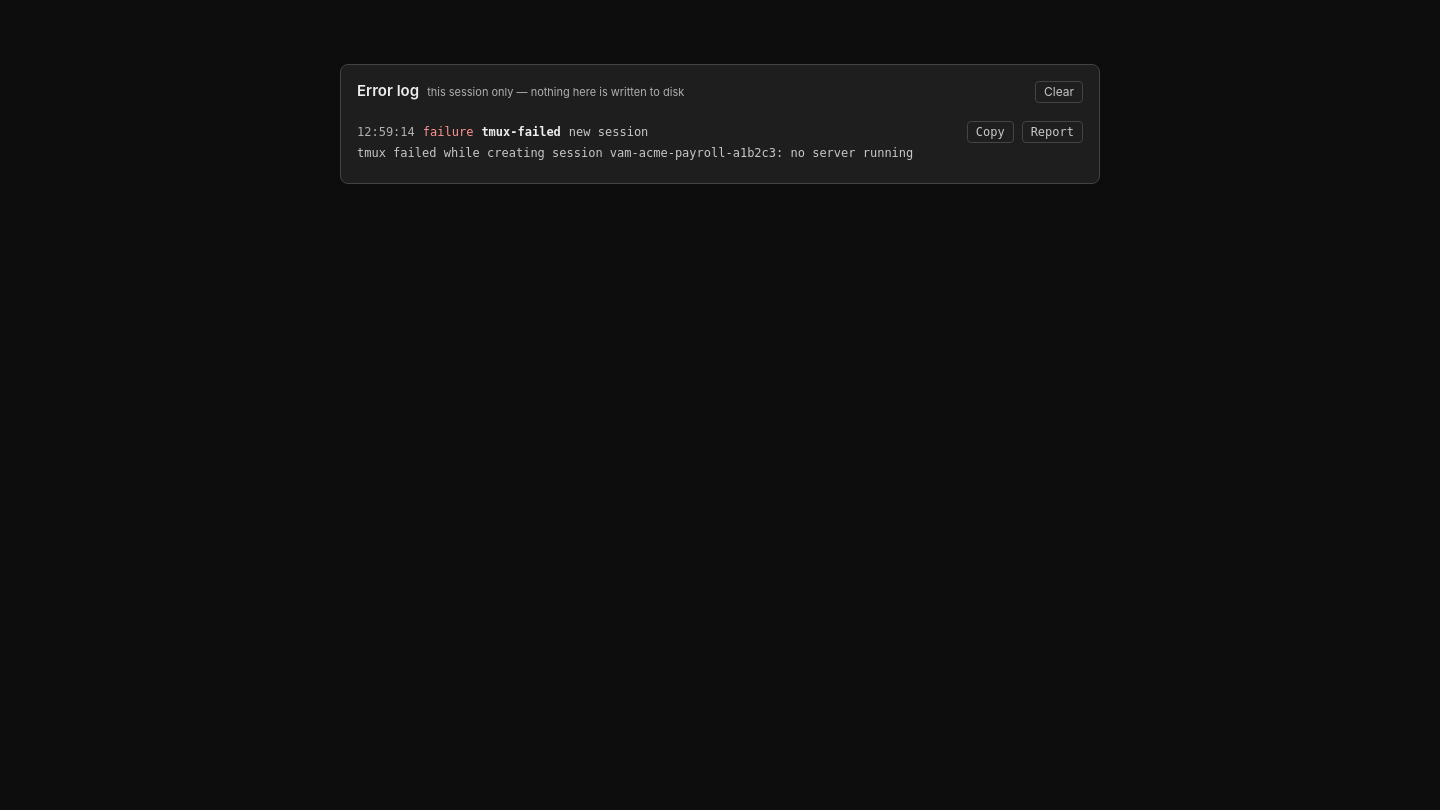
Test: reaching github from a recorded failure › leaves a route to the issue page when the copy is refused
Click the button "Report": (1052, 132) [1022, 121, 1083, 143]
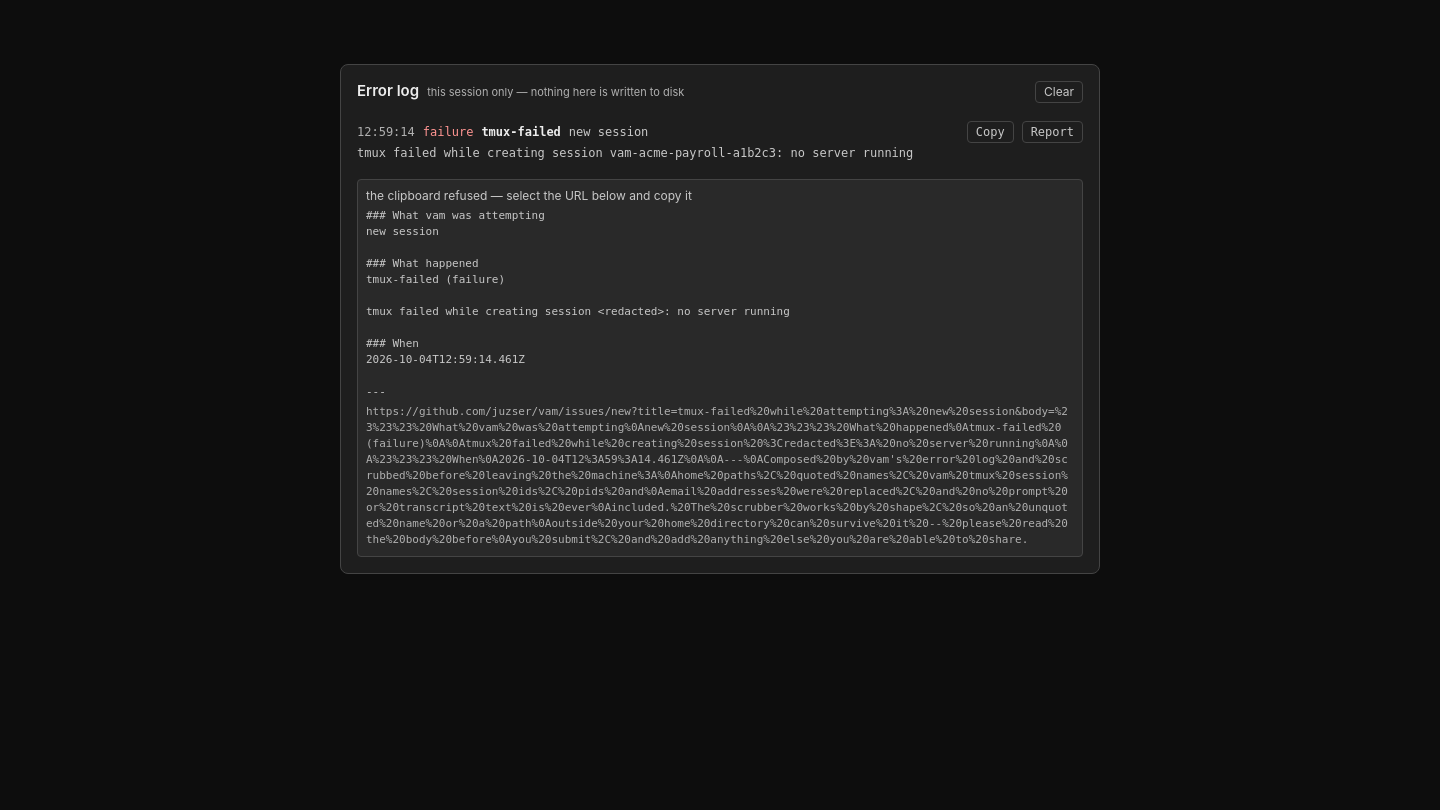
Now the text "the clipboard refused — select the URL below and copy it" is shown, box [366, 188, 692, 203]
